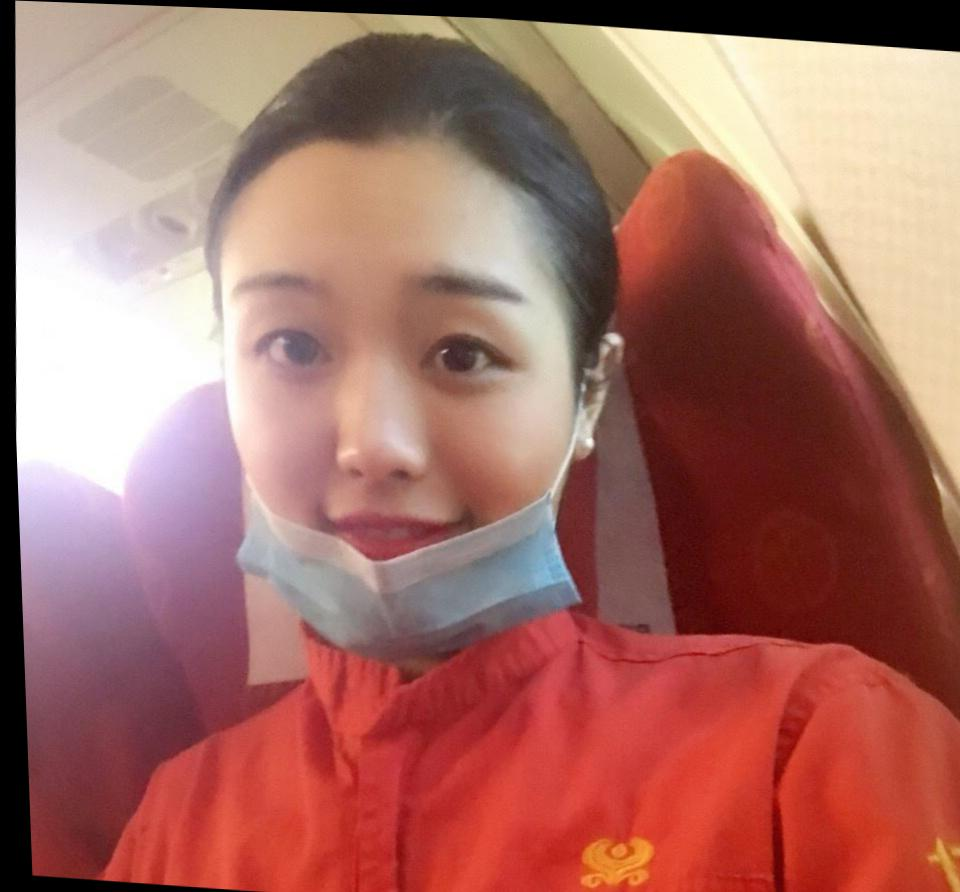WRONG: (212, 222, 574, 661)
